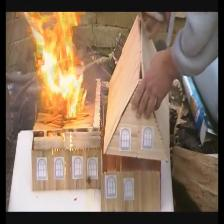fire: (23, 12, 89, 119)
